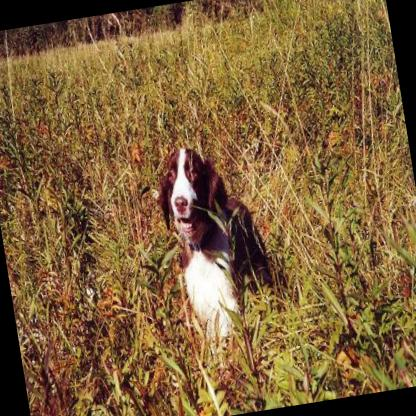English_springer: (146, 129, 280, 345)
